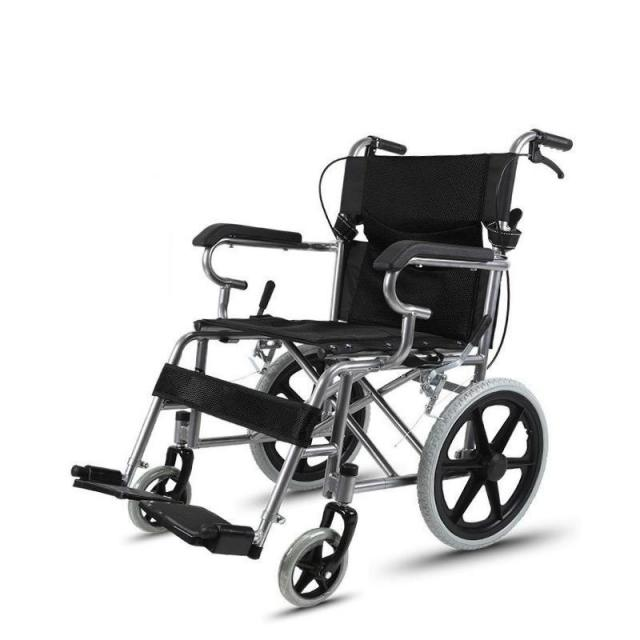wheelchair: (58, 112, 640, 640)
